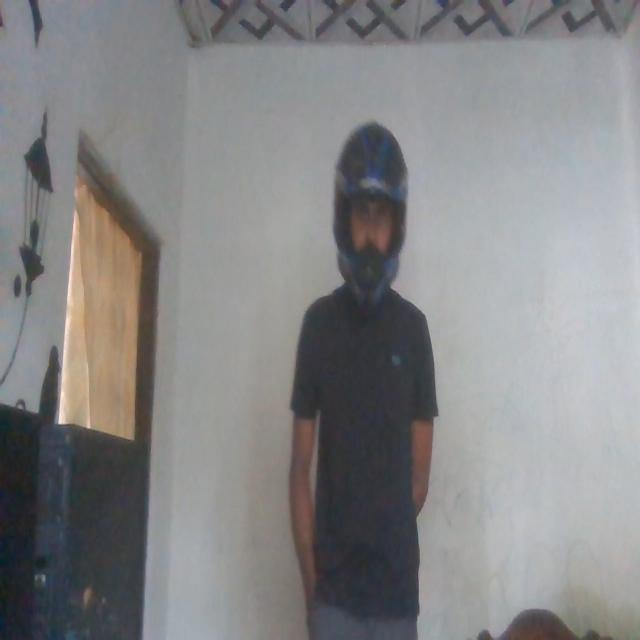Helmet_Wearer: (322, 120, 406, 309)
Person: (286, 118, 438, 640)
